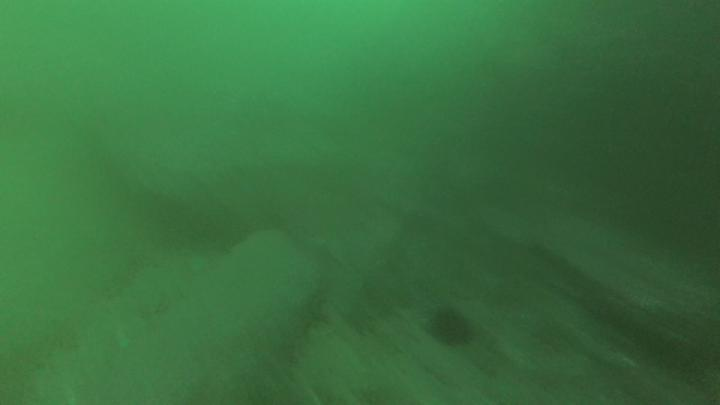echinus: (425, 302, 477, 353)
